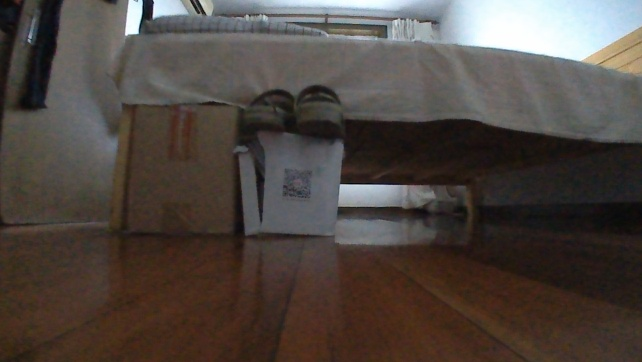bed: (99, 22, 641, 236)
